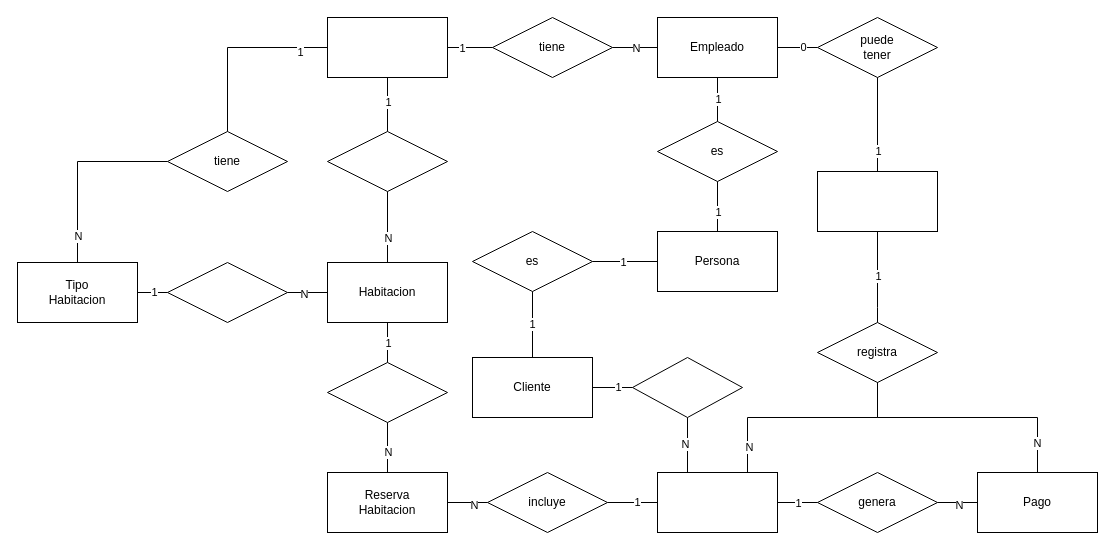
The diagram is 1115 pixels wide and 550 high, and some of its shapes have lost their labels. Here are the shapes that lost their labels. From the top down, the box of each, then its label:
(326, 16, 448, 78): Hotel
(326, 130, 448, 192): contiene
(816, 170, 938, 232): Usuario
(166, 262, 288, 322): clasifica
(326, 362, 448, 422): asignada en
(632, 356, 742, 418): efectua
(656, 472, 778, 532): Reserva
